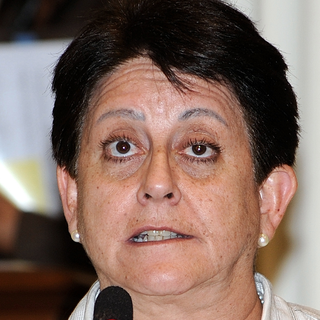eye: (167, 133, 228, 169), (94, 132, 150, 166)
